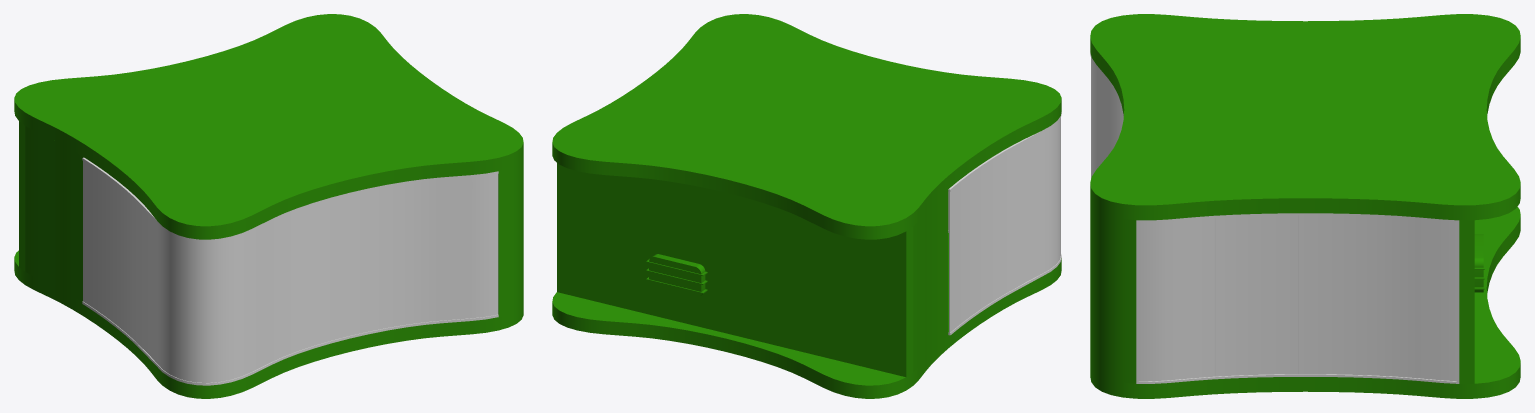
File: Space Room.fbx
3 renders of one model, left to right at view 1: azimuth 30°, elevation 25°; view 2: azimuth 150°, elevation 25°; view 3: azimuth 270°, elevation 25°, orthographic. The views are drawn at different scales.
Visible parts, largest first — view 1: Space Room; view 2: Space Room; view 3: Space Room.
Boxes of the visible parts, box(x1,y1,x2,y2) form: Space Room: box(14, 14, 523, 398); Space Room: box(552, 14, 1061, 398); Space Room: box(1090, 14, 1520, 398).
Size of the model in its own units: 11.05 by 5.21 by 10.5.
